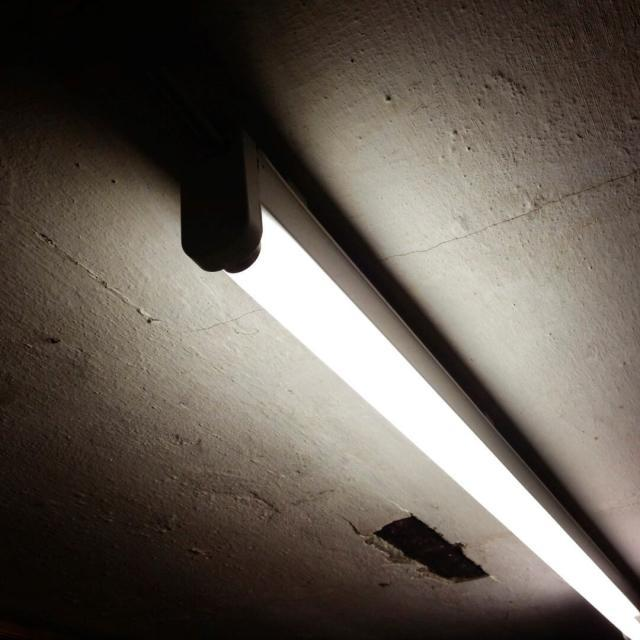Straight-Tube-Fluorescent-Lamp: (179, 176, 640, 639)
